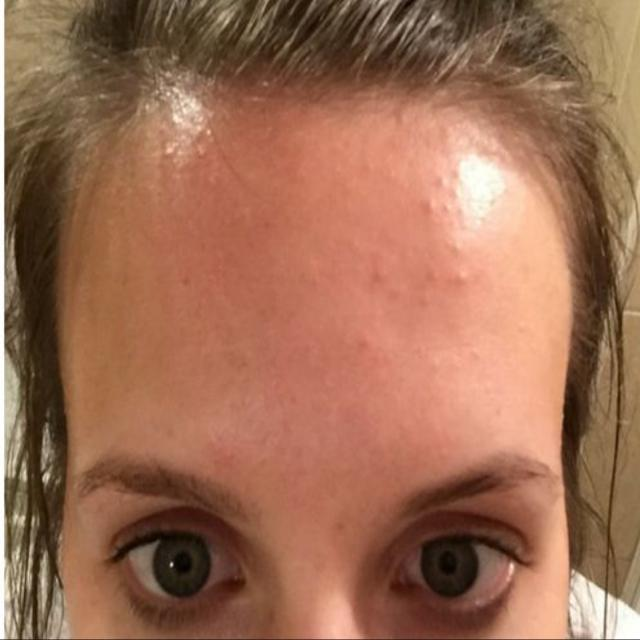fungal: (353, 163, 505, 378)
